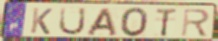A: (85, 7, 119, 37)
K: (29, 7, 54, 36)
O: (120, 6, 150, 38)
R: (180, 8, 212, 38)
T: (154, 7, 178, 38)
U: (57, 6, 88, 36)
